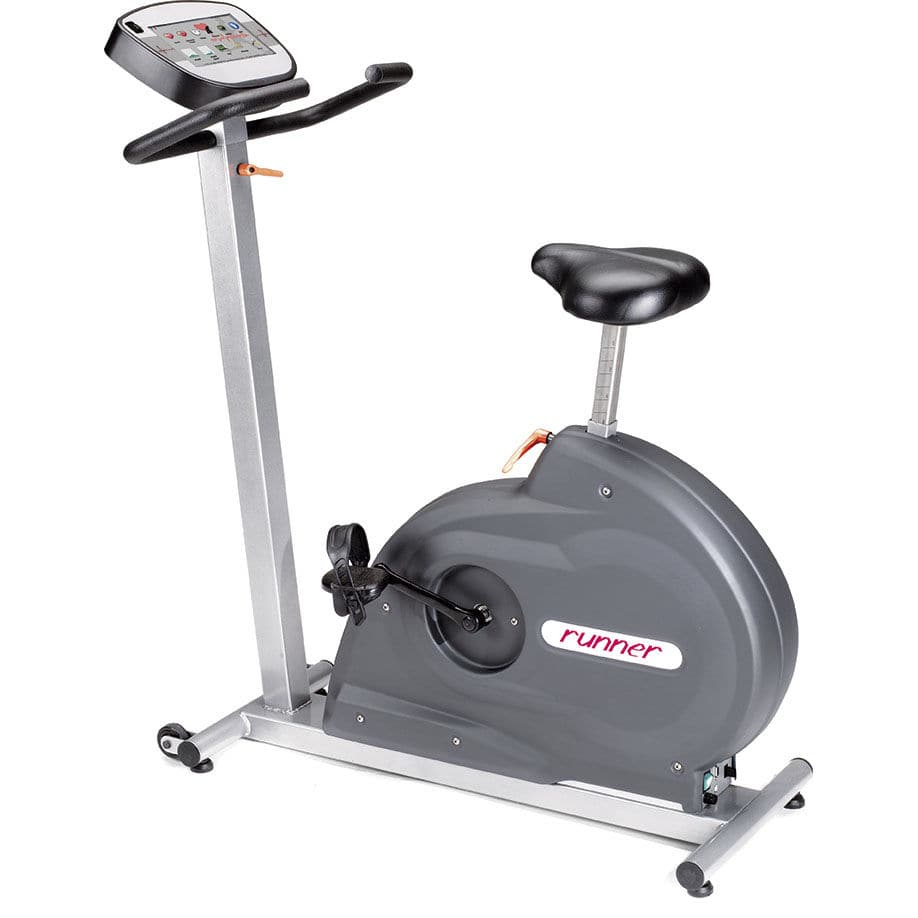gym_bike: (96, 1, 844, 879)
